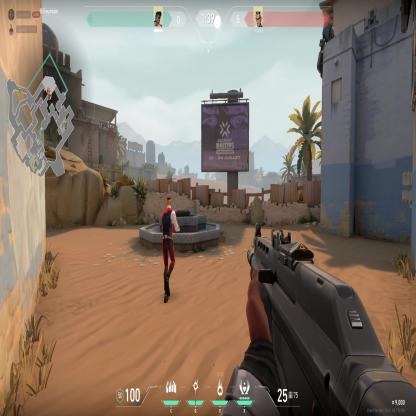enemy: (160, 194, 180, 305)
